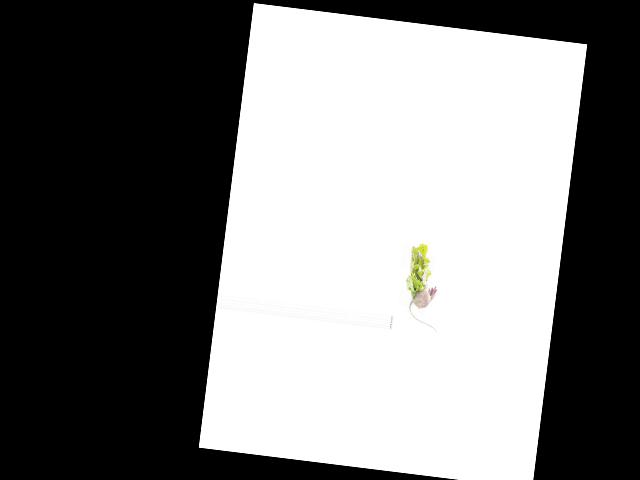beet: (406, 283, 442, 333)
